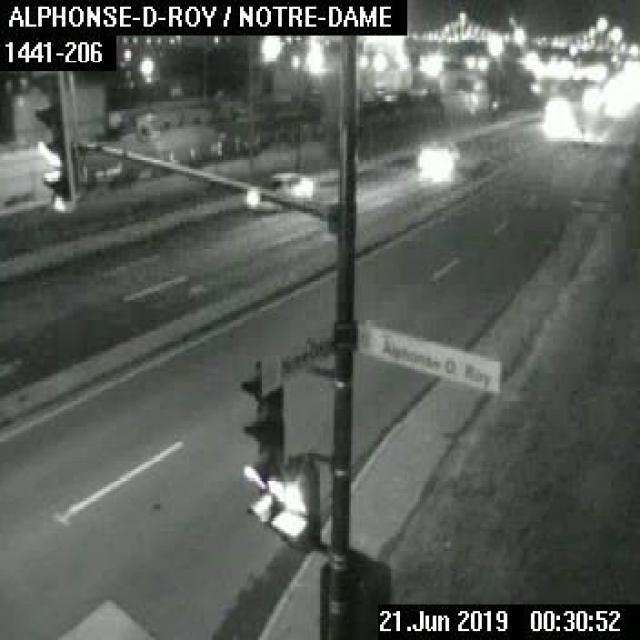vehicle: (243, 167, 314, 213), (420, 140, 459, 174)
